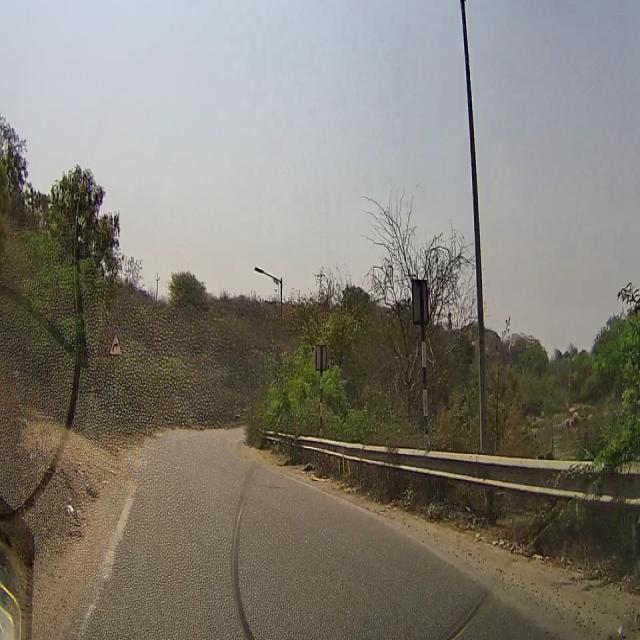right-hand-curve: (108, 332, 122, 355)
